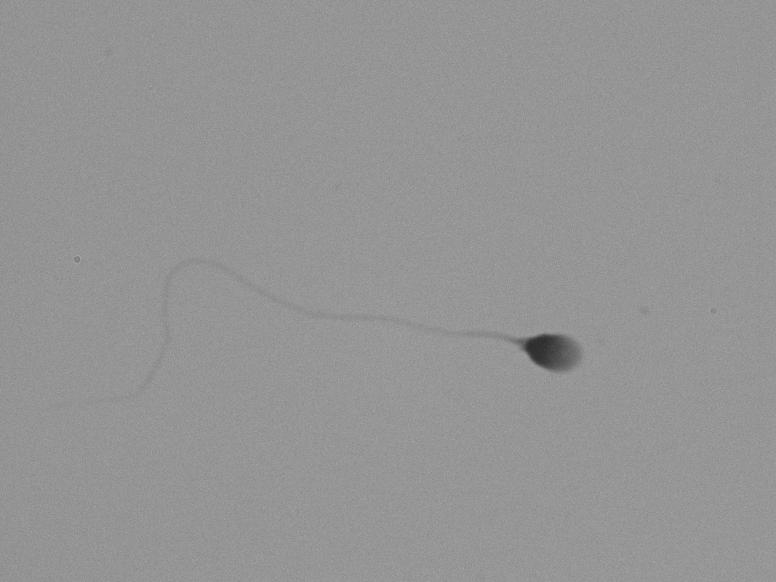Normal: (54, 202, 642, 460)
